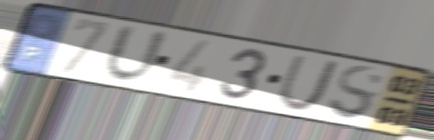3: (218, 47, 269, 102)
4: (163, 38, 214, 97)
7: (58, 16, 115, 77)
S: (326, 64, 387, 123)
U: (100, 22, 172, 87), (274, 53, 342, 113)
